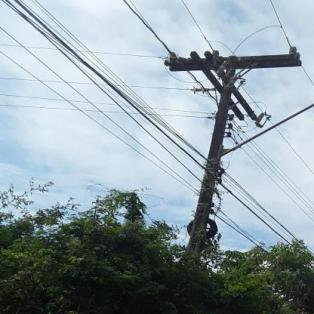Poste: (161, 53, 251, 271)
